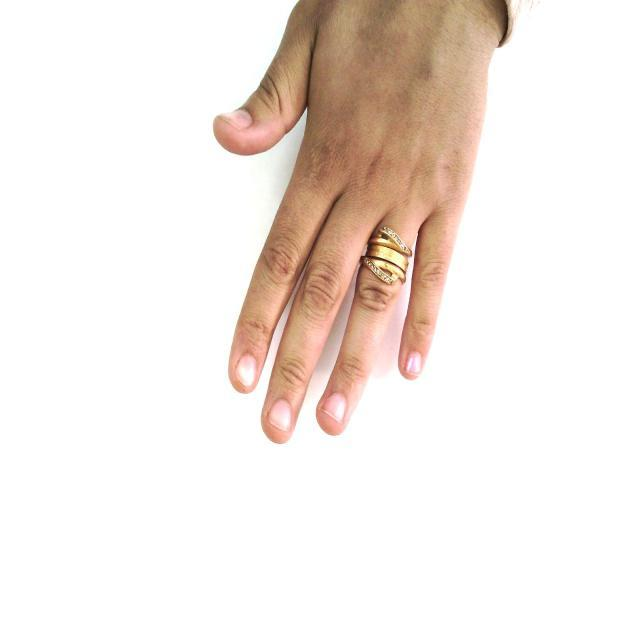Fingernail: (270, 400, 291, 431), (220, 109, 251, 128), (238, 356, 257, 384), (325, 394, 345, 420), (407, 353, 421, 374)
